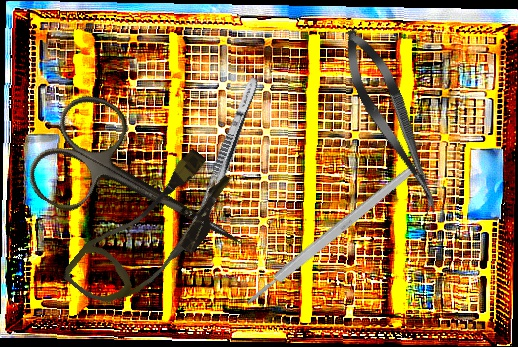Cannula: (60, 133, 244, 332)
Dressing Forceps: (188, 75, 263, 239)
Iris Scissors: (19, 84, 272, 298)
Micro Scissor: (332, 22, 453, 221)
Scalpel Handle: (243, 162, 419, 308)
